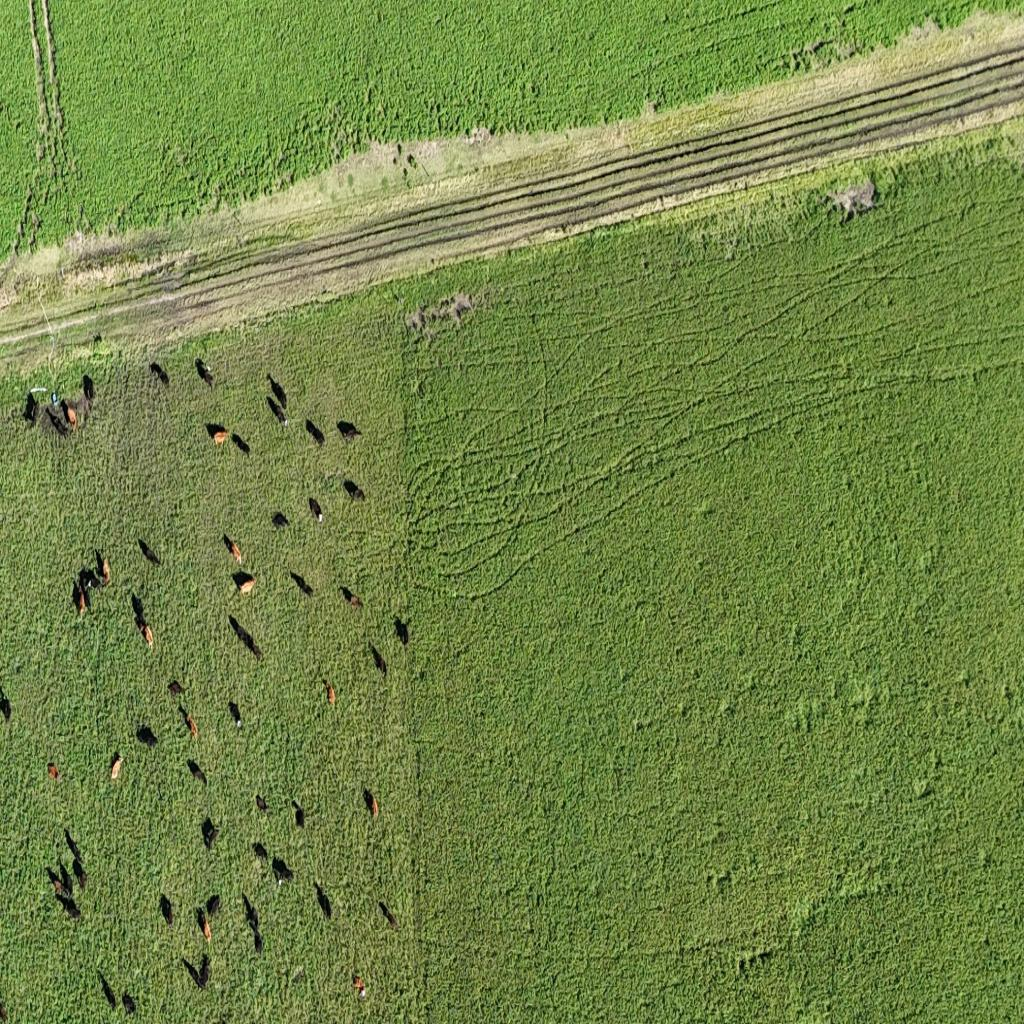cow: (245, 905, 264, 956), (186, 954, 210, 991), (240, 624, 262, 660), (98, 973, 117, 1011), (179, 704, 199, 740), (196, 906, 213, 946), (266, 395, 287, 427), (72, 576, 88, 616), (267, 375, 286, 408), (290, 570, 314, 596), (46, 866, 66, 897), (202, 816, 220, 850), (188, 758, 208, 788), (378, 901, 398, 930), (71, 856, 88, 890), (342, 478, 366, 502), (316, 883, 332, 919), (65, 829, 83, 861), (242, 892, 258, 928), (59, 862, 75, 898), (337, 422, 362, 445), (140, 540, 162, 566), (272, 857, 294, 883), (370, 644, 387, 677), (136, 724, 159, 748), (195, 360, 214, 389), (96, 548, 111, 584), (138, 616, 154, 649), (224, 533, 242, 562), (63, 402, 80, 432), (160, 894, 174, 930), (363, 787, 379, 818), (306, 421, 325, 447), (206, 424, 228, 446), (79, 572, 93, 606), (341, 586, 362, 608), (150, 362, 169, 386), (50, 413, 69, 437), (131, 592, 145, 624), (253, 842, 270, 868), (234, 572, 256, 592), (108, 752, 122, 783), (308, 497, 324, 524), (205, 893, 221, 920), (0, 686, 11, 724), (229, 616, 246, 640), (64, 902, 82, 924), (395, 618, 409, 646), (28, 397, 42, 425), (228, 702, 241, 731), (82, 374, 95, 402), (354, 974, 368, 1000), (122, 990, 136, 1015), (271, 513, 289, 531), (294, 800, 305, 829), (325, 679, 336, 705), (168, 681, 184, 698), (47, 763, 60, 783), (256, 793, 268, 812), (0, 998, 8, 1022)
